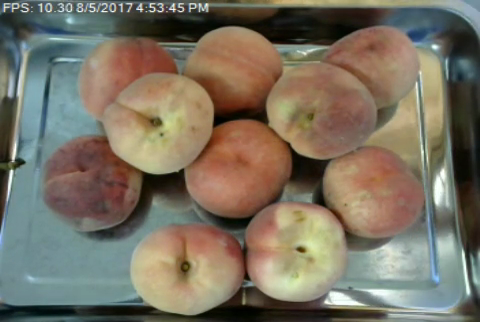Peach: (263, 62, 380, 161), (101, 72, 217, 171), (183, 118, 293, 218), (128, 224, 245, 314), (242, 201, 346, 301), (307, 25, 426, 112), (320, 145, 424, 239), (40, 133, 141, 228), (182, 26, 285, 113), (83, 36, 171, 124)
